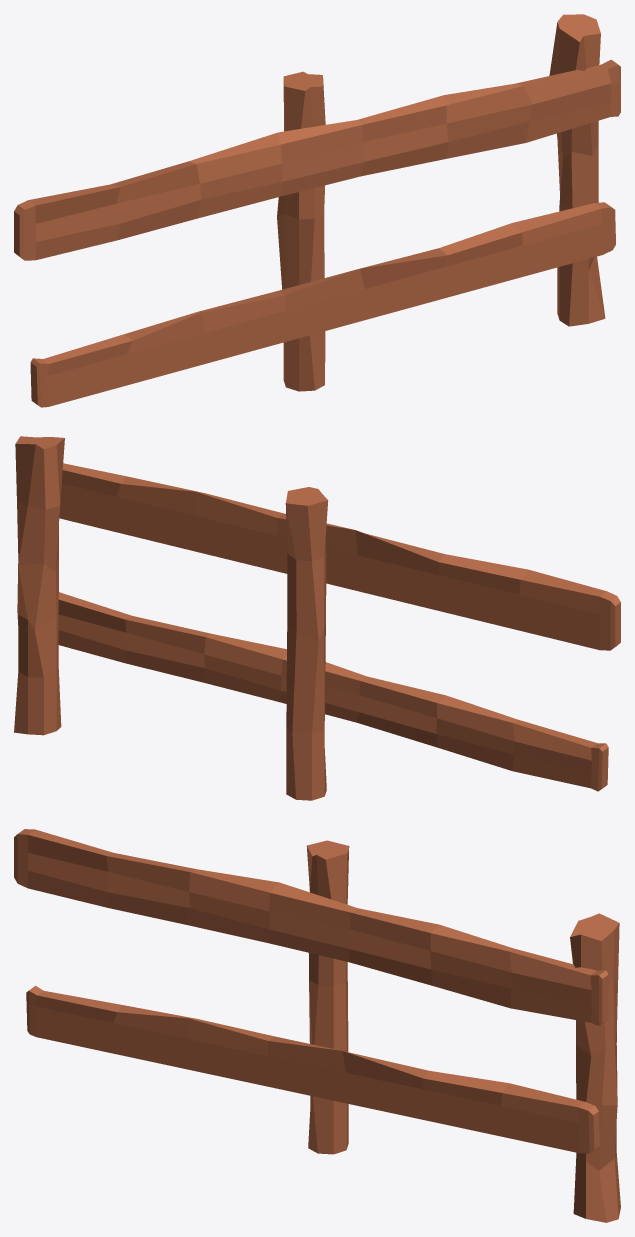
Rendered from Cerca Conector 1.fbx.
3 renders of one model, top to bottom at view 1: azimuth 30°, elevation 25°; view 2: azimuth 150°, elevation 25°; view 3: azimuth 330°, elevation 25°, orthographic. The views are drawn at different scales.
Visible parts, largest first — view 1: Cerca Conector; view 2: Cerca Conector; view 3: Cerca Conector.
Part boxes in pixels (<box>): Cerca Conector: <box>14,14,620,407</box>; Cerca Conector: <box>14,436,620,800</box>; Cerca Conector: <box>14,829,620,1222</box>.
Bounding box in the file's own units: 990 × 481 × 110.
